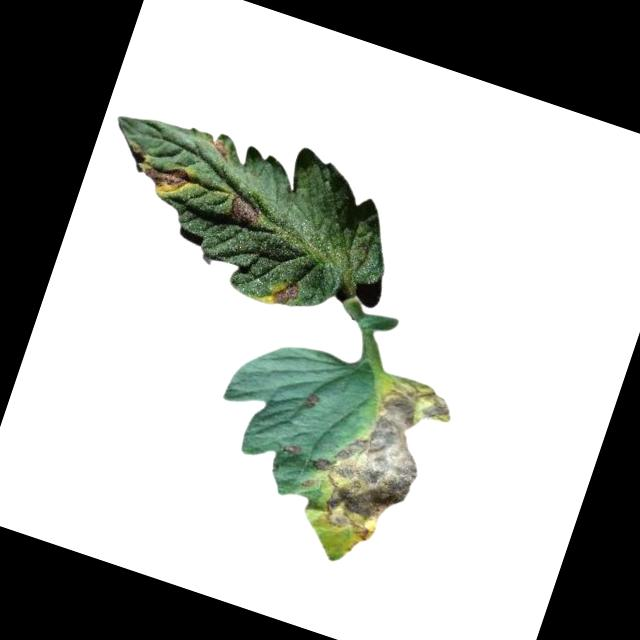Early_blight: (291, 357, 457, 550), (136, 153, 197, 203), (227, 193, 268, 230), (265, 274, 302, 308), (209, 133, 234, 161), (283, 439, 305, 460), (301, 388, 322, 410)
